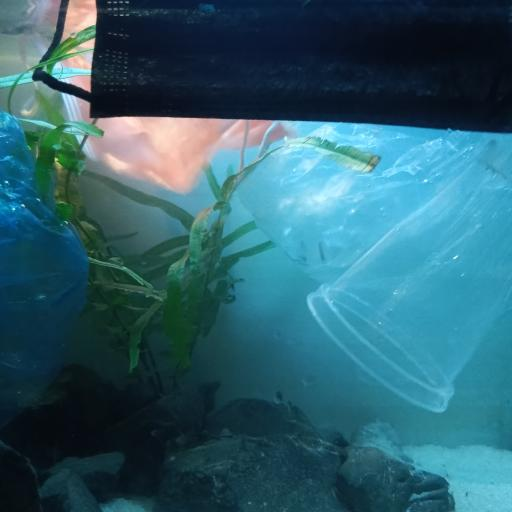mask: (38, 0, 512, 135), (52, 4, 277, 196)
plastic_bag: (235, 122, 512, 274), (0, 108, 93, 429)
plastic_cup: (311, 147, 512, 415)
